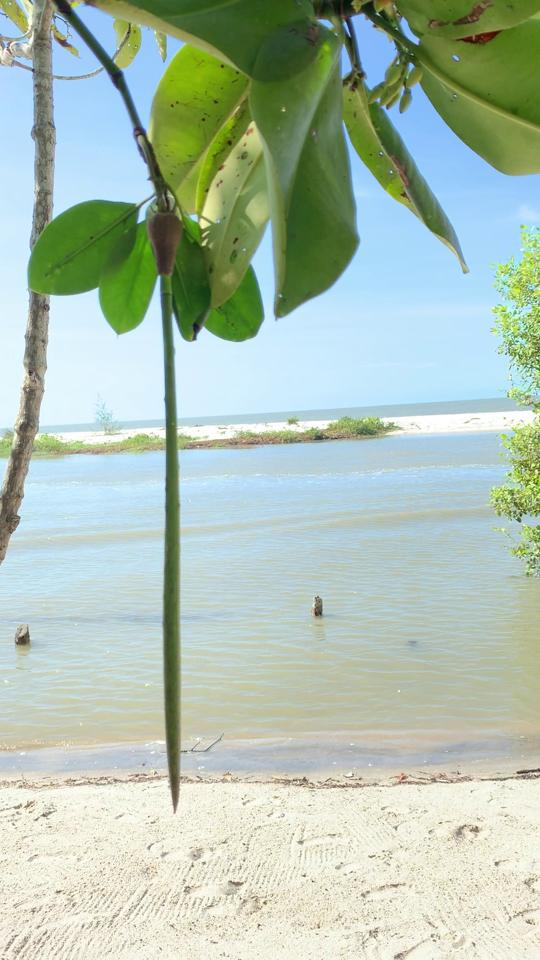setengah matang: (134, 192, 196, 819)
